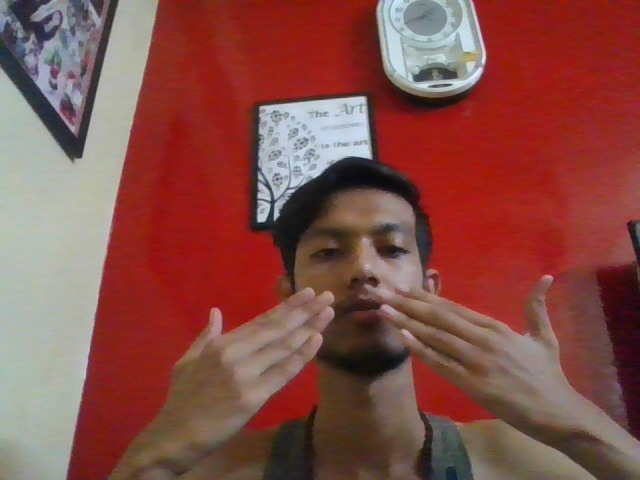ThankYou: (171, 275, 578, 445)
